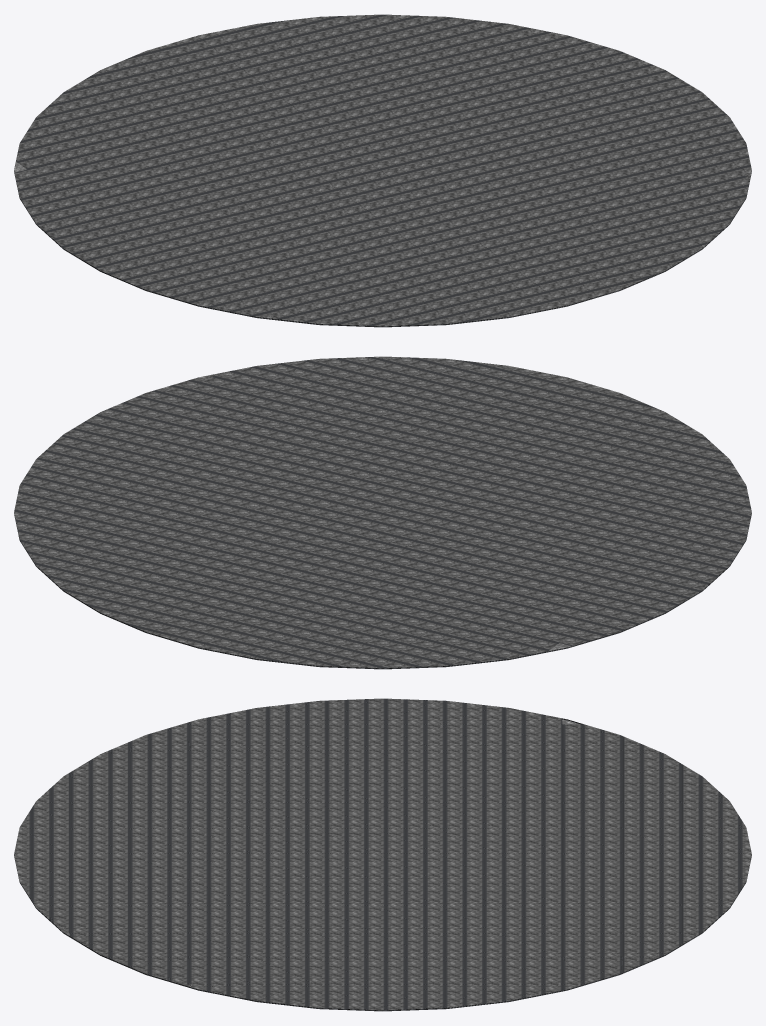
File: testCircleThing.fbx
3 renders of one model, top to bottom at view 1: azimuth 30°, elevation 25°; view 2: azimuth 150°, elevation 25°; view 3: azimuth 270°, elevation 25°, orthographic.
Parts seen in each view (by area): view 1: Object; view 2: Object; view 3: Object.
Boxes of the visible parts, box(x1,y1,x2,y2) form: Object: box(14, 14, 751, 327); Object: box(14, 356, 751, 669); Object: box(14, 698, 751, 1011).
Size of the model in its own units: 60000 by 100 by 60000.
